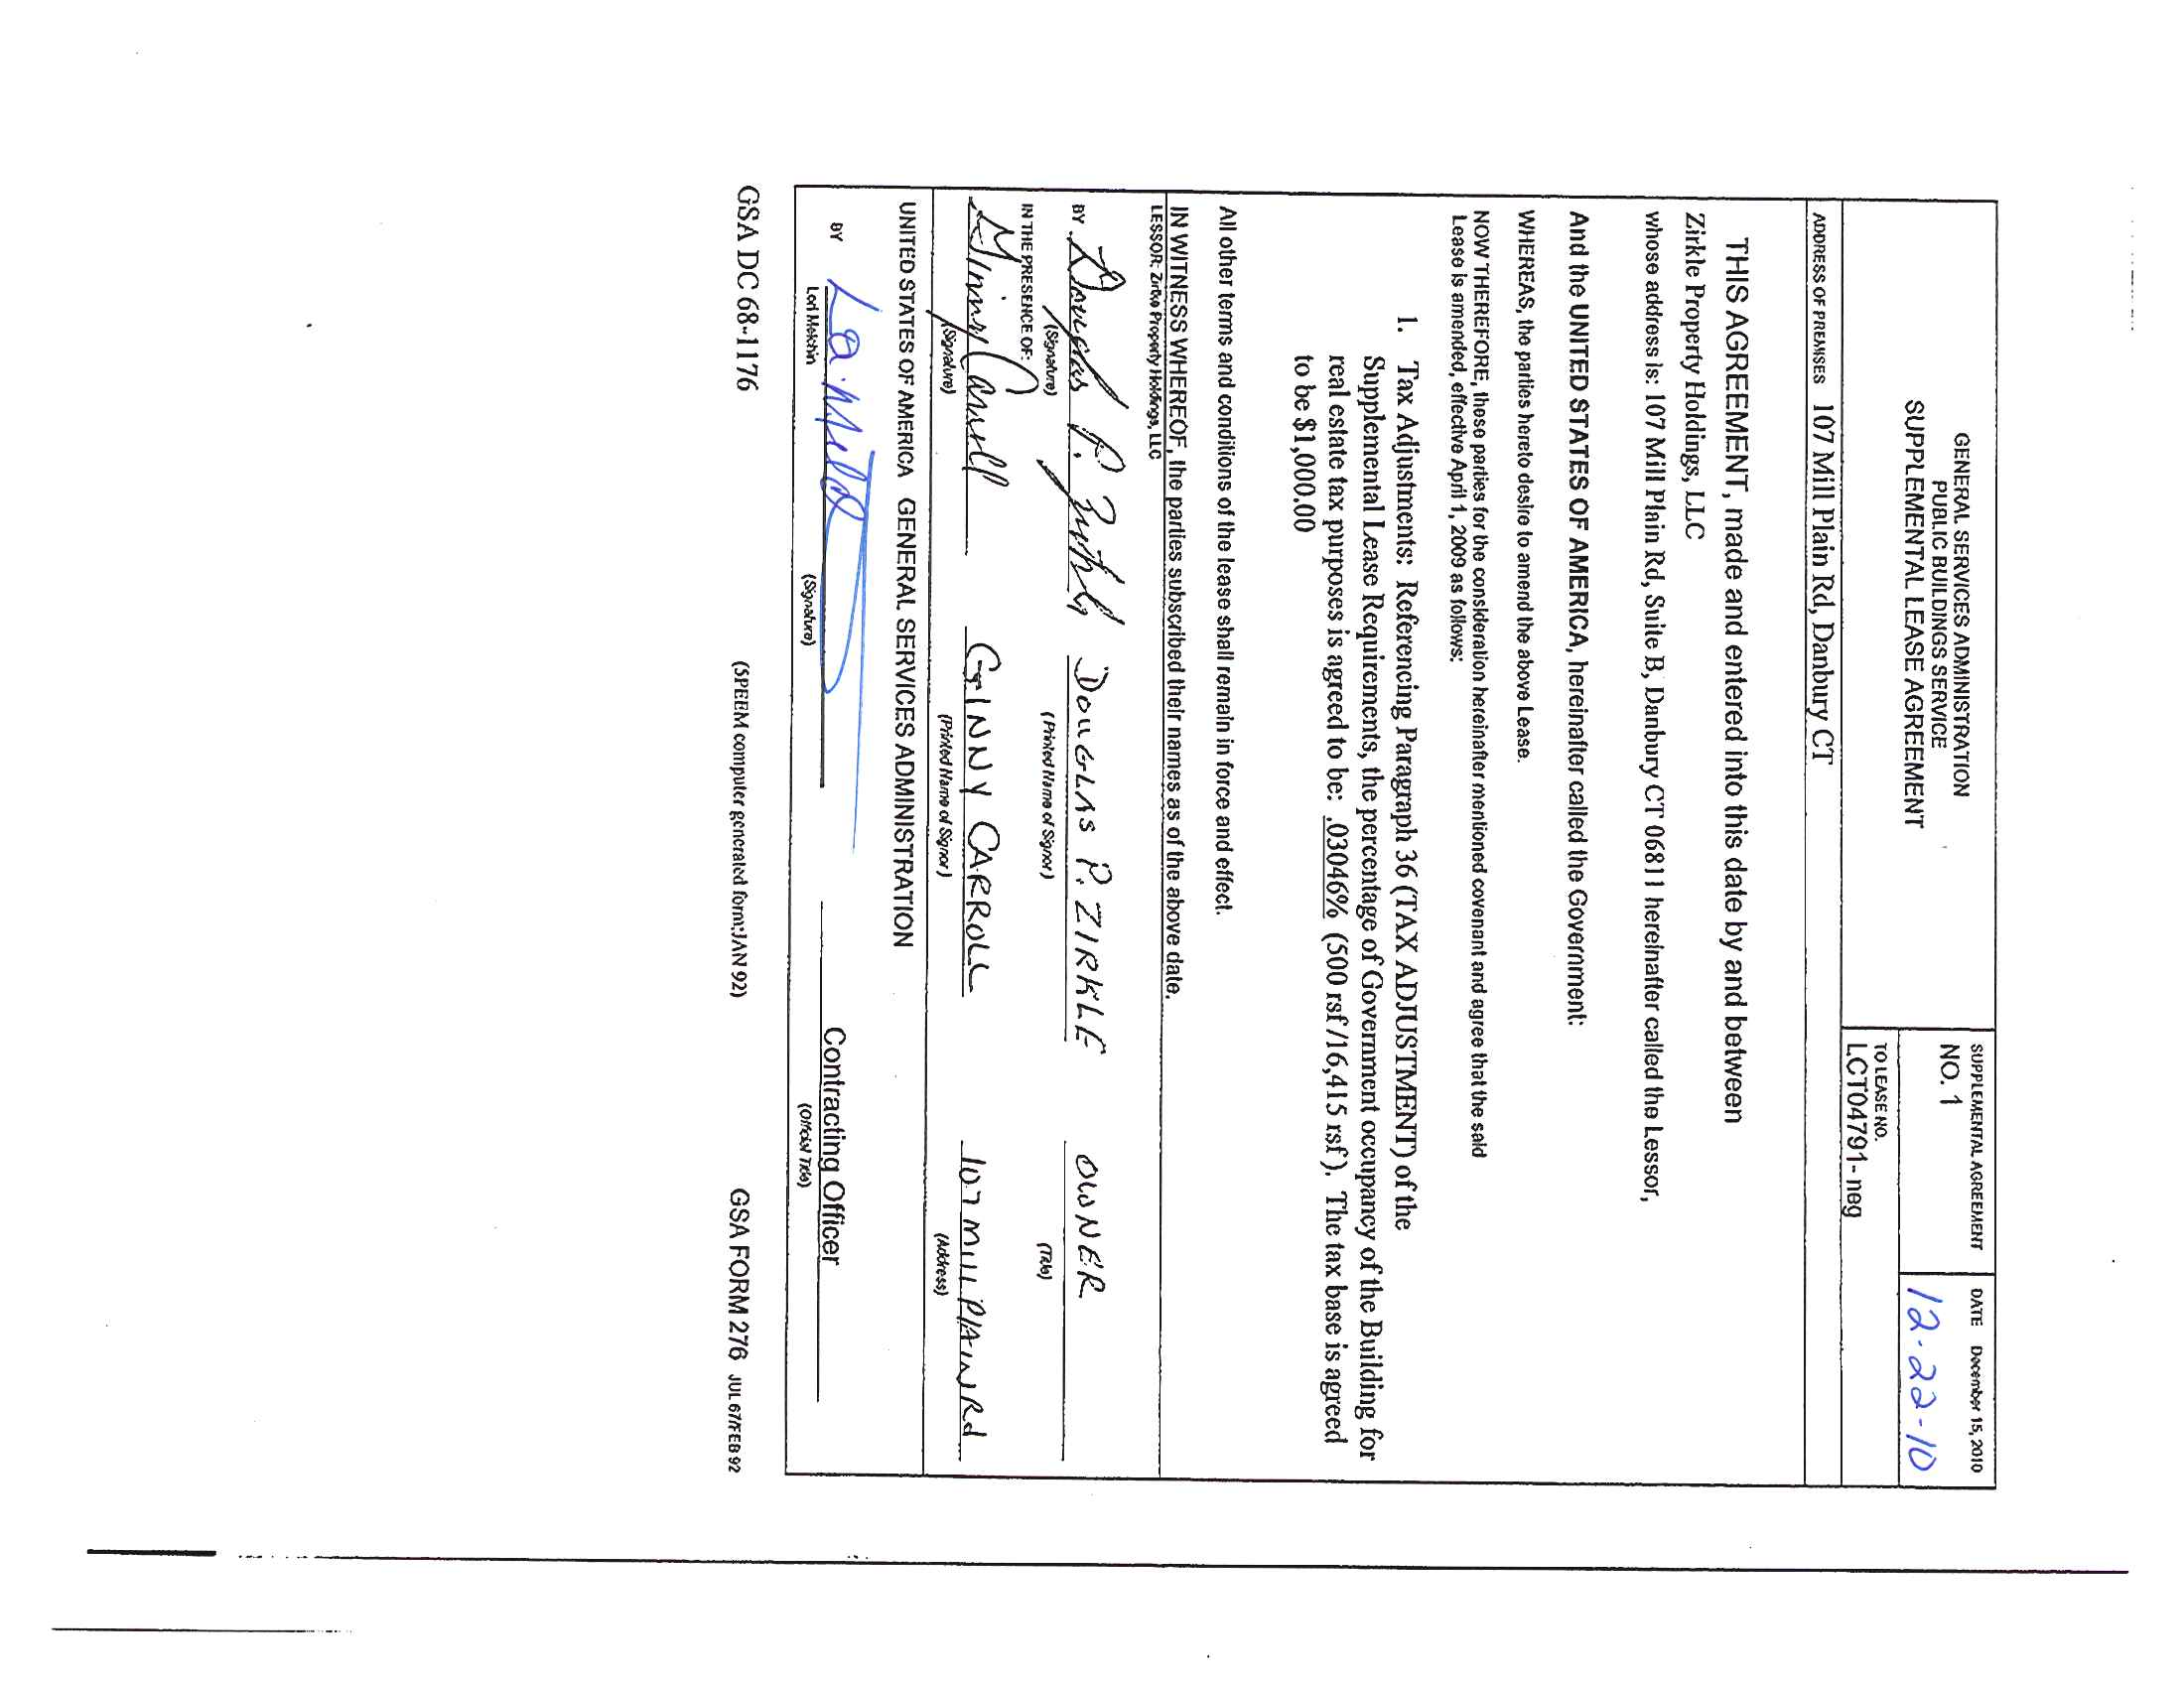handwritten: (812, 268, 888, 865), (1899, 1271, 1950, 1468)
